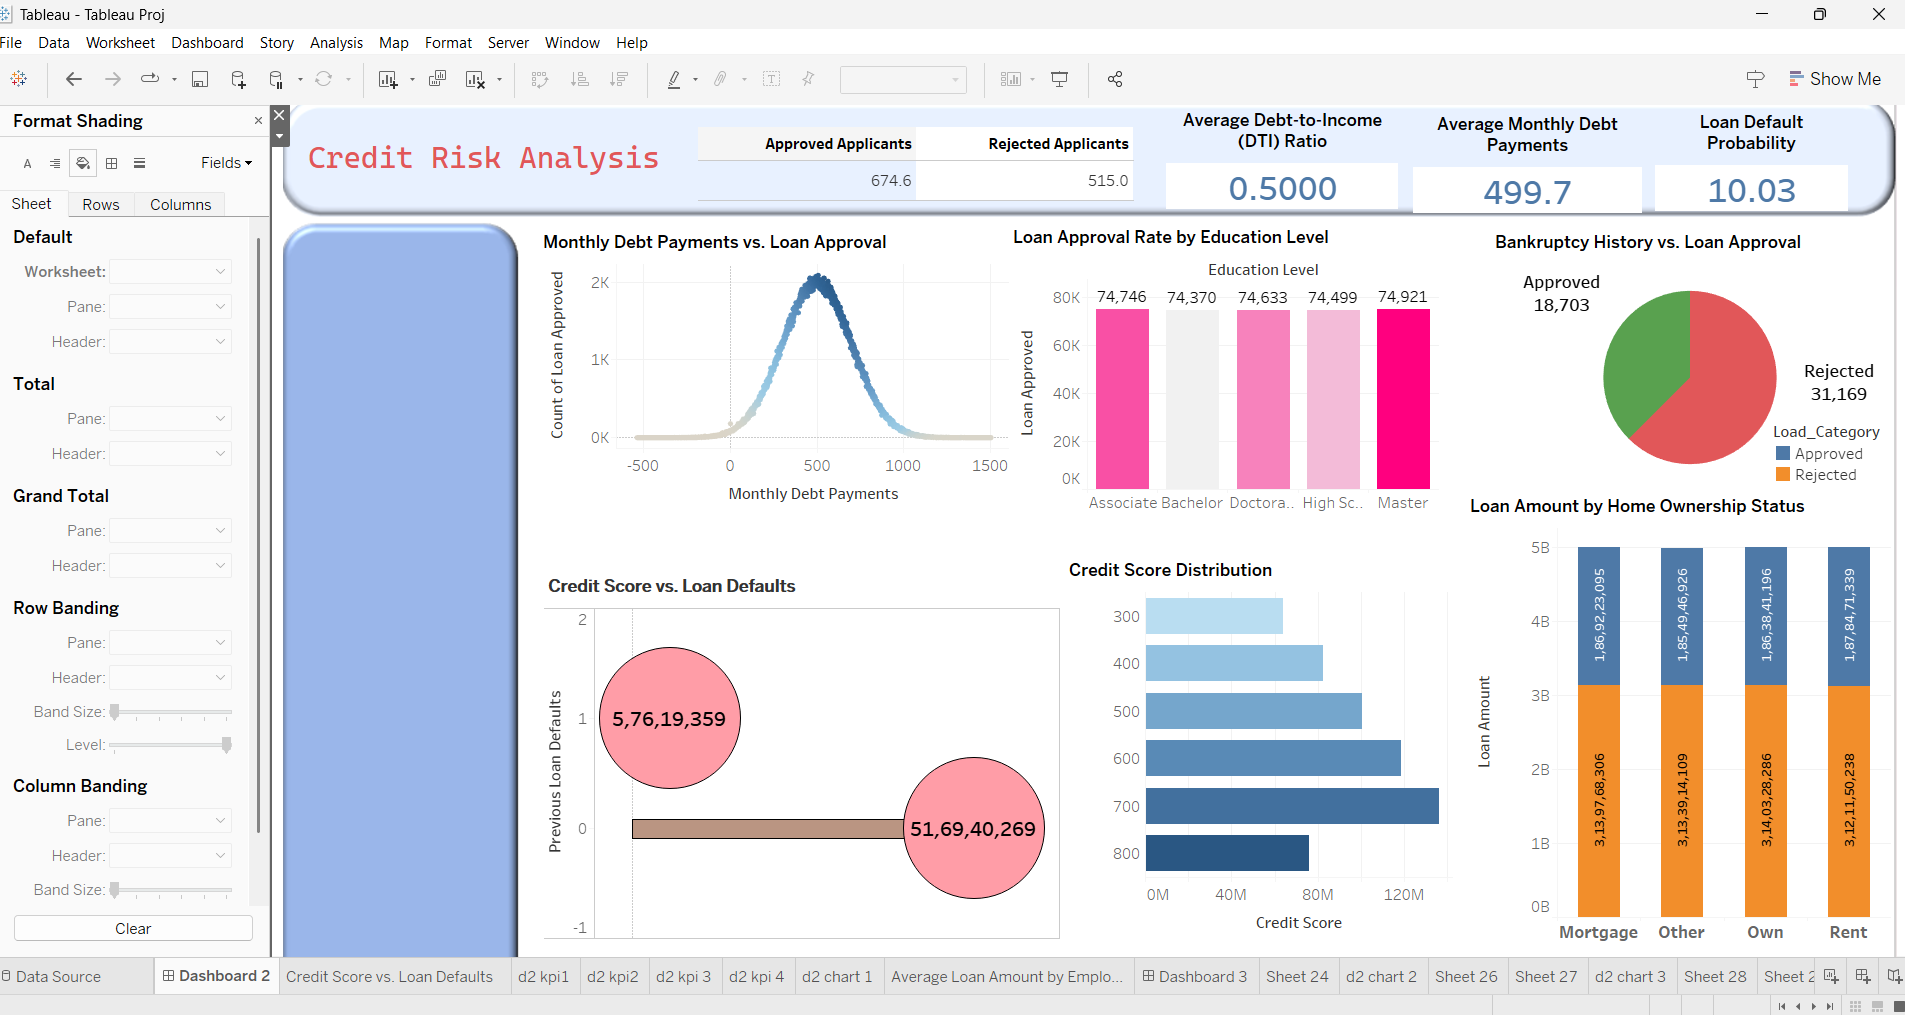

What the dashboard file says about the page in this screenshot:
{"tool":"tableau","page":{"name":"Credit Risk Analysis","canvas":[1000,1000],"units":"permille","ordinal":0},"visuals":[{"type":"worksheet","title":"d2 kpi 4","mark":"Automatic","box":[844.3,3.5,117.7,128.1]},{"type":"worksheet","title":"d2 kpi2","mark":"Automatic","box":[531.1,4.7,157.3,123.4]},{"type":"worksheet","title":"d2 kpi 3","mark":"Automatic","box":[697,5.9,139.4,122.2]},{"type":"worksheet","title":"d2 kpi1","mark":"Automatic","box":[260.7,8.2,266.1,104.6]},{"type":"text","box":[21.3,23.5,235,76.4]},{"type":"dashboard-object","box":[16.9,90.5,95.4,49.4]},{"type":"worksheet","title":"Sheet 27","mark":"Automatic","rows":["LoanApproved"],"cols":["EducationLevel"],"box":[450.6,138.7,262.2,341.9]},{"type":"worksheet","title":"Sheet 26","mark":"Line","rows":["LoanApproved"],"cols":["MonthlyDebtPayments"],"box":[164,144.5,287.8,332.6]},{"type":"worksheet","title":"d2 chart 1","mark":"Pie","box":[744.7,144.5,242.6,309.1]},{"type":"filter","title":"d2 kpi2","param":"[federated.1yazxop0s0wtwq197ndzq12i0eiv].[none:Calculation_715509448864428039:nk","box":[17.1,157.5,128.1,139.8]},{"type":"filter","title":"d2 kpi2","param":"[federated.1yazxop0s0wtwq197ndzq12i0eiv].[none:Credit Score (bin):ok]","box":[13.4,313.8,131.7,286.7]},{"type":"legend","title":"Sheet 28","param":"[federated.1yazxop0s0wtwq197ndzq12i0eiv].[none:Calculation_715509448864428039:nk","box":[916.5,371.3,65.8,79.9]},{"type":"worksheet","title":"Sheet 28","mark":"Automatic","rows":["LoanAmount"],"cols":["HomeOwnershipStatus"],"box":[729.3,454.8,259.1,531.1]},{"type":"worksheet","title":"d2 chart 2","mark":"Bar","rows":["Credit Score (bin)"],"cols":["CreditScore"],"box":[484.8,530,236.6,451.2]},{"type":"worksheet","title":"Credit Score vs. Loan Defaults","mark":"Automatic","rows":["PreviousLoanDefaults","PreviousLoanDefaults"],"cols":["CreditScore"],"box":[167.1,548.8,314.6,431.3]},{"type":"filter","title":"d2 kpi2","param":"[federated.1yazxop0s0wtwq197ndzq12i0eiv].[none:EducationLevel:nk]","box":[12.8,631,97.6,62.3]}]}

Visuals, with their boxes on the dashboard's canvas, which has no fixed pixel size, in thousandths of its width and height (x1, y1, x2, y2). These are canvas units, not pixel positions in the 1905x1015 screenshot, which may show the page scaled, cropped or inside an application window:
"d2 kpi 4" worksheet: {"x1": 844, "y1": 4, "x2": 962, "y2": 132}
"d2 kpi2" worksheet: {"x1": 531, "y1": 5, "x2": 688, "y2": 128}
"d2 kpi 3" worksheet: {"x1": 697, "y1": 6, "x2": 836, "y2": 128}
"d2 kpi1" worksheet: {"x1": 261, "y1": 8, "x2": 527, "y2": 113}
text: {"x1": 21, "y1": 24, "x2": 256, "y2": 100}
dashboard-object: {"x1": 17, "y1": 90, "x2": 112, "y2": 140}
"Sheet 27" worksheet: {"x1": 451, "y1": 139, "x2": 713, "y2": 481}
"Sheet 26" worksheet (Line marks): {"x1": 164, "y1": 144, "x2": 452, "y2": 477}
"d2 chart 1" worksheet (Pie marks): {"x1": 745, "y1": 144, "x2": 987, "y2": 454}
"d2 kpi2" filter: {"x1": 17, "y1": 158, "x2": 145, "y2": 297}
"d2 kpi2" filter: {"x1": 13, "y1": 314, "x2": 145, "y2": 600}
"Sheet 28" legend: {"x1": 916, "y1": 371, "x2": 982, "y2": 451}
"Sheet 28" worksheet: {"x1": 729, "y1": 455, "x2": 988, "y2": 986}
"d2 chart 2" worksheet (Bar marks): {"x1": 485, "y1": 530, "x2": 721, "y2": 981}
"Credit Score vs. Loan Defaults" worksheet: {"x1": 167, "y1": 549, "x2": 482, "y2": 980}
"d2 kpi2" filter: {"x1": 13, "y1": 631, "x2": 110, "y2": 693}
